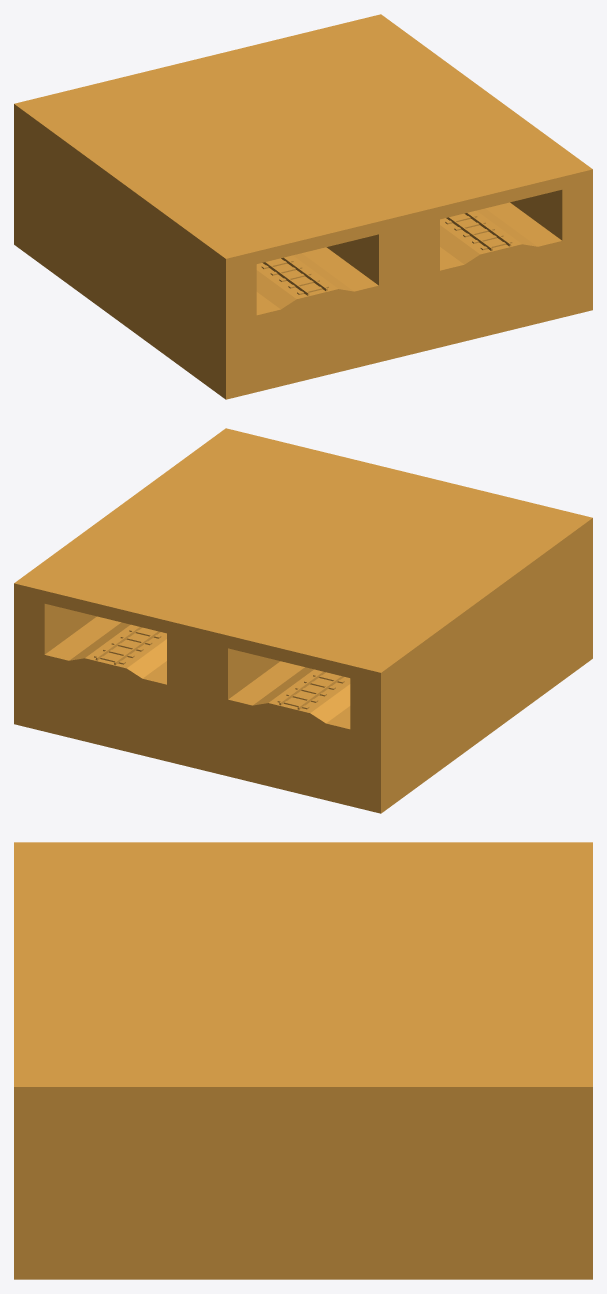
The model's file is tile-rail-tunnel-double.glb.
The picture shows the model from 3 angles, top to bottom: view 1: azimuth 30°, elevation 25°; view 2: azimuth 150°, elevation 25°; view 3: azimuth 270°, elevation 25°; orthographic projection. The views are drawn at different scales.
Visible parts, largest first — view 1: tile-rail-tunnel-double; view 2: tile-rail-tunnel-double; view 3: tile-rail-tunnel-double.
Boxes of the visible parts, x1,y1,x2,y2 form: tile-rail-tunnel-double: (14, 14, 592, 399); tile-rail-tunnel-double: (14, 428, 592, 813); tile-rail-tunnel-double: (14, 842, 592, 1279).
Bounding box in the file's own units: 30 × 11 × 30.
